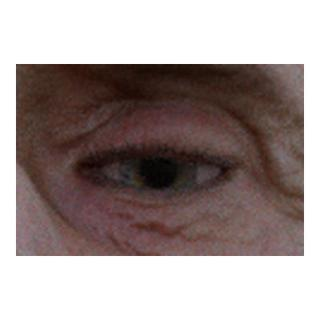pupil: (141, 153, 176, 188)
